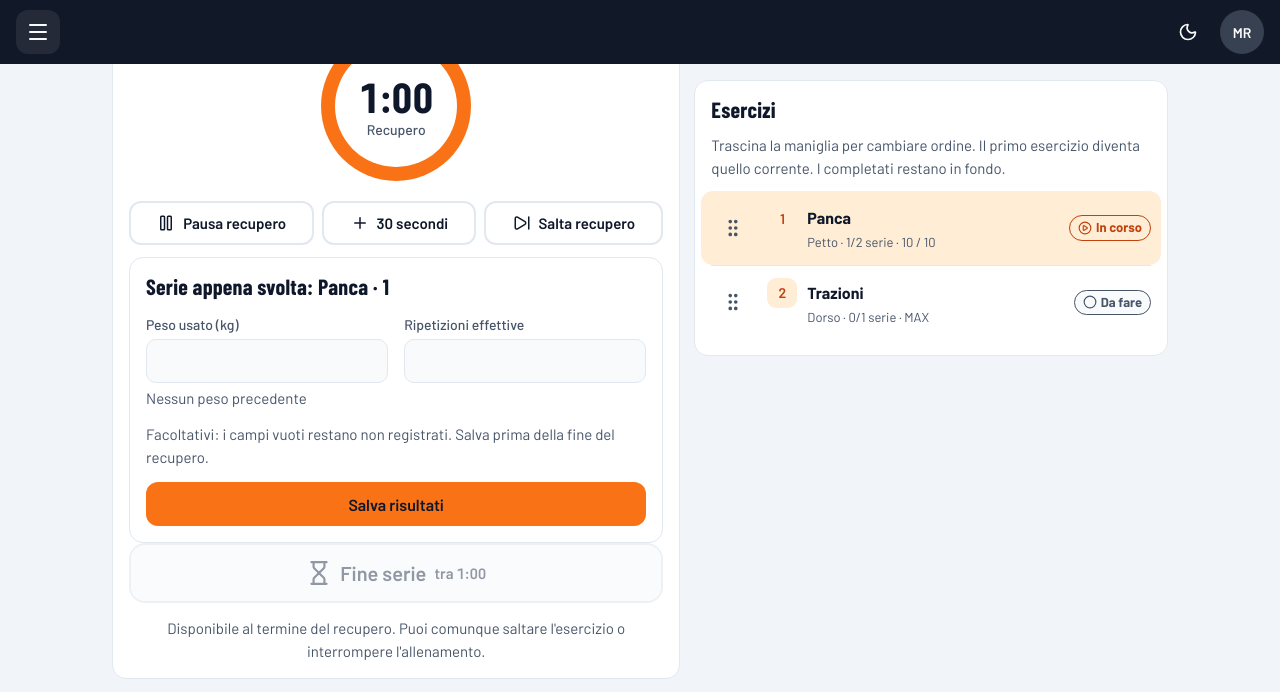
Test: actual set results during recovery › resyncs rejected stale results and never submits them for the next series
This screenshot has width=1280, height=692.
(page scrolled)
Type "8" into the field labelled "Ripetizioni effettive" at {"x": 525, "y": 361}, box [404,339,646,383]
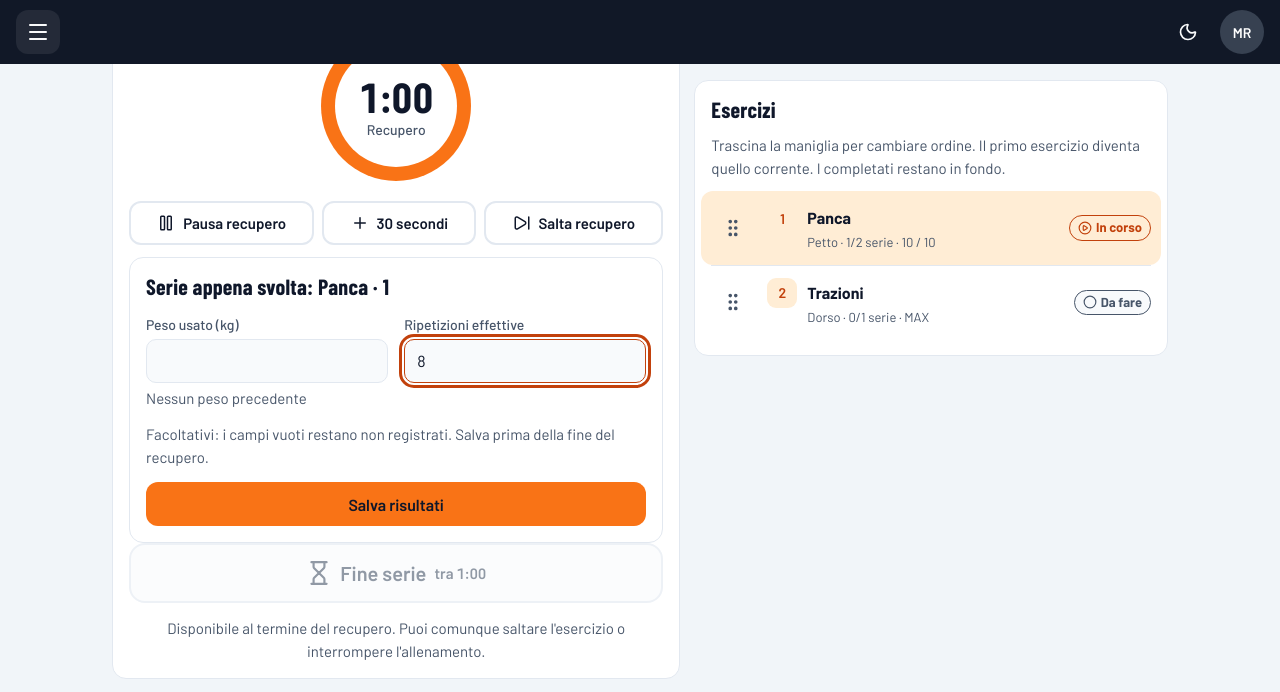
Click the button "Salva risultati" at {"x": 396, "y": 504}, box [146,482,646,526]
(page scrolled)
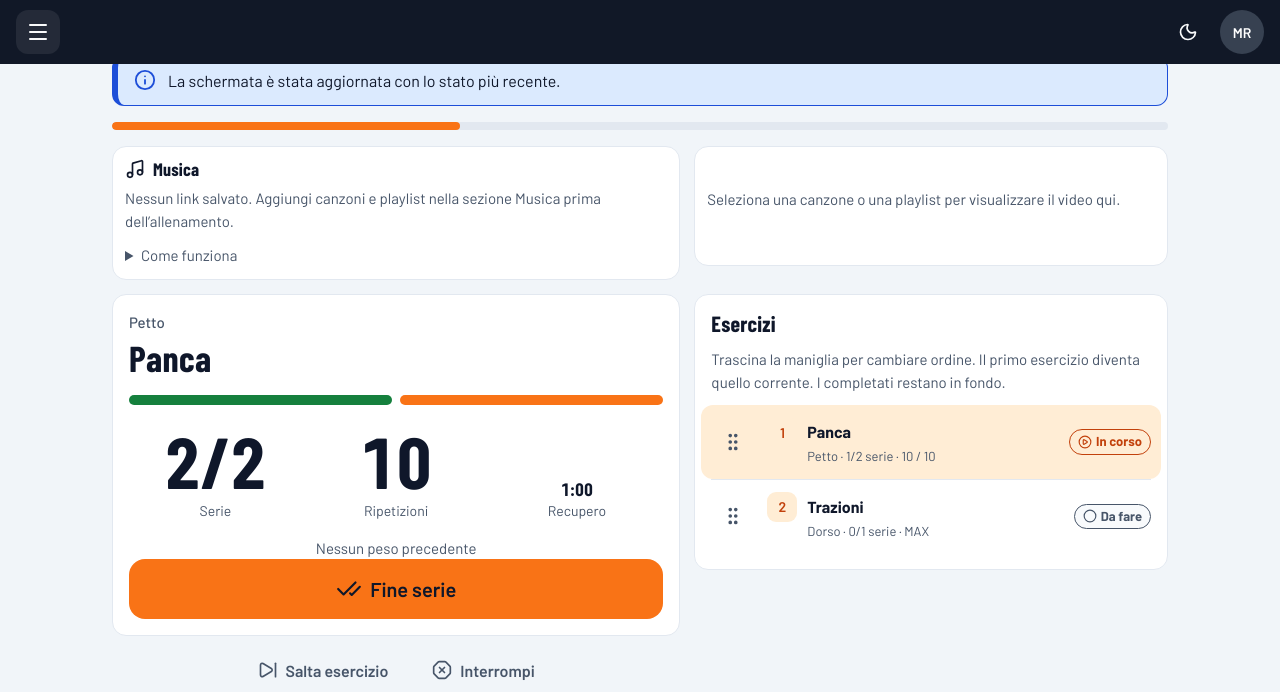
Expected: the label labelled "Ripetizioni effettive" is gone
